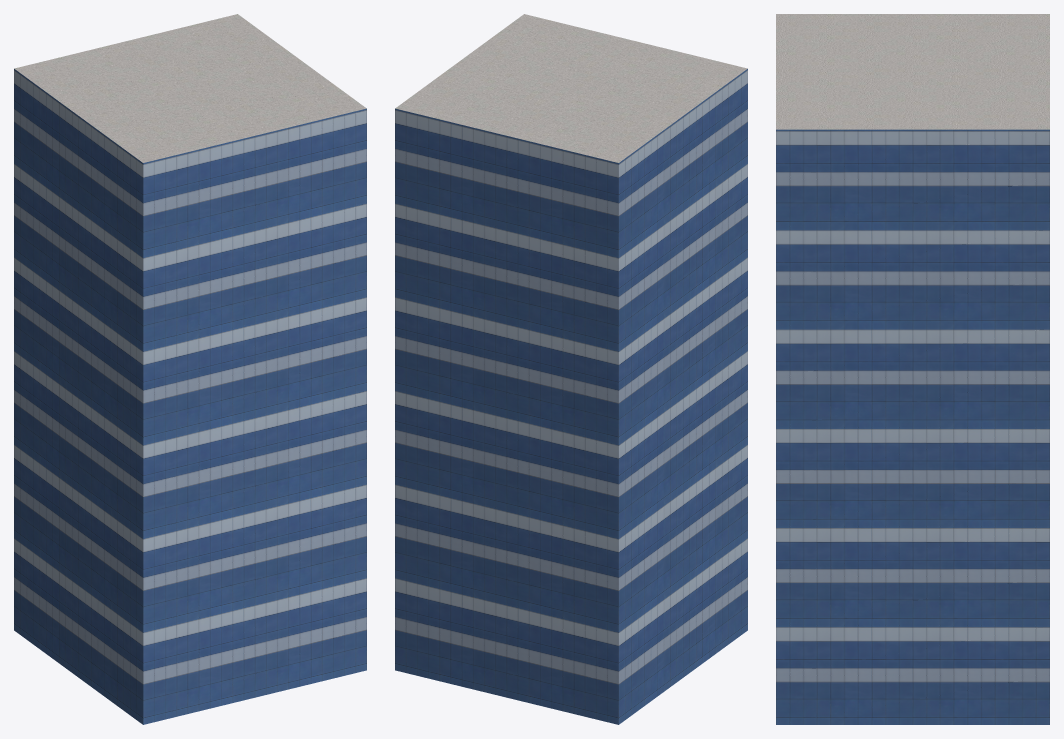
File: building_001.fbx
3 views of the same model, side by side, from view 1: azimuth 30°, elevation 25°; view 2: azimuth 150°, elevation 25°; view 3: azimuth 270°, elevation 25° (orthographic). The views are drawn at different scales.
Visible parts, largest first — view 1: building_001; view 2: building_001; view 3: building_001.
Boxes of the visible parts, x1,y1,x2,y2 form: building_001: [14, 14, 366, 724]; building_001: [395, 14, 747, 724]; building_001: [776, 14, 1049, 724].
Size of the model in its own units: 1500 by 3600 by 1500.
